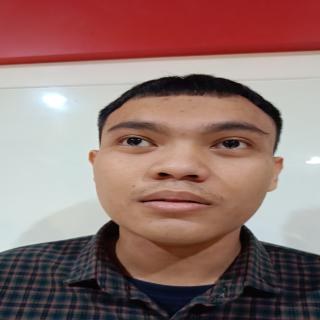Takut: (93, 86, 287, 253)
